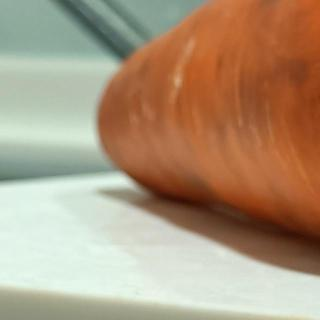carrot: (93, 0, 320, 270)
